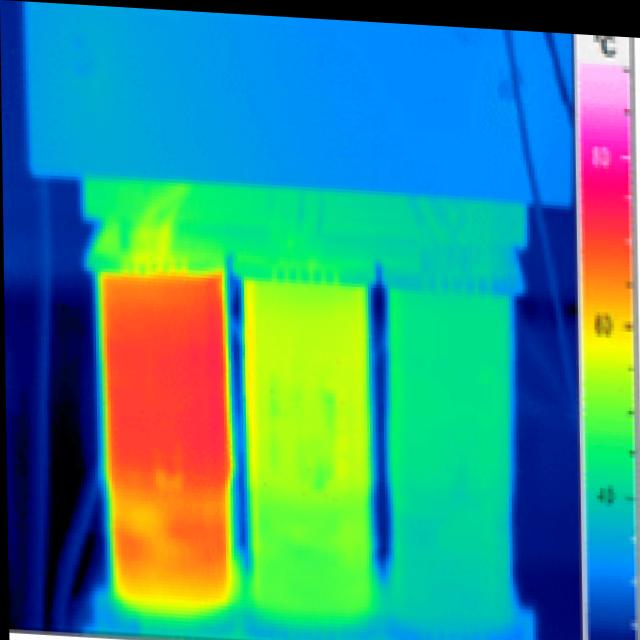Faulty: (79, 252, 239, 629)
